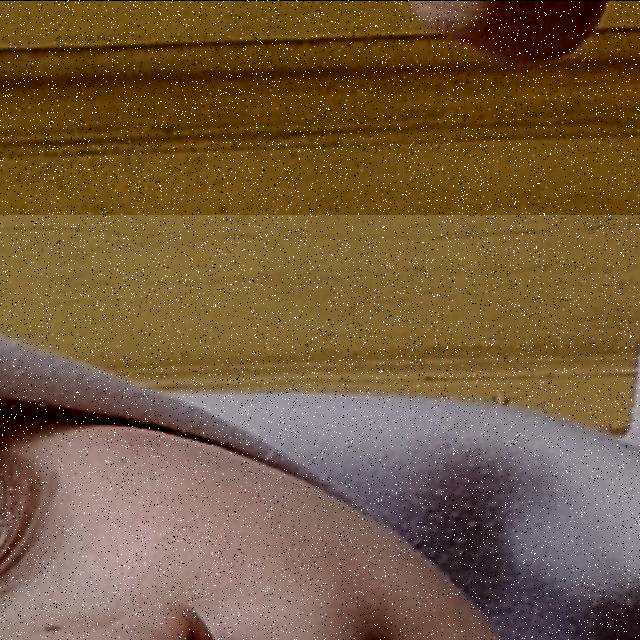baik: (0, 0, 640, 214)
